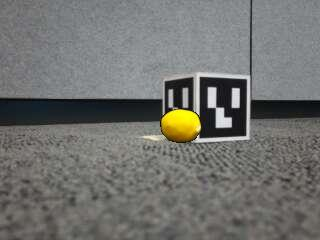lemon: (161, 110, 200, 143)
